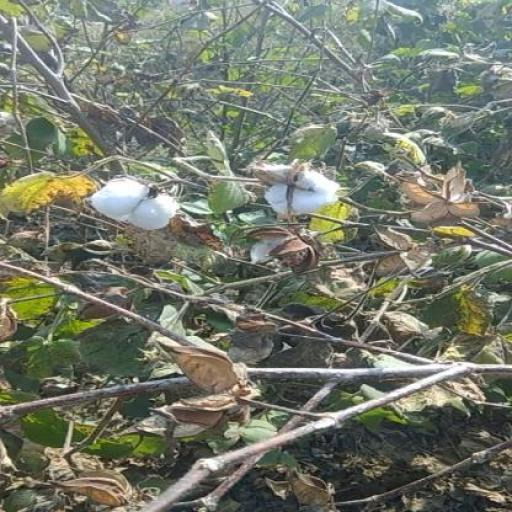cotton_ready: (71, 178, 192, 238), (252, 158, 348, 224)
